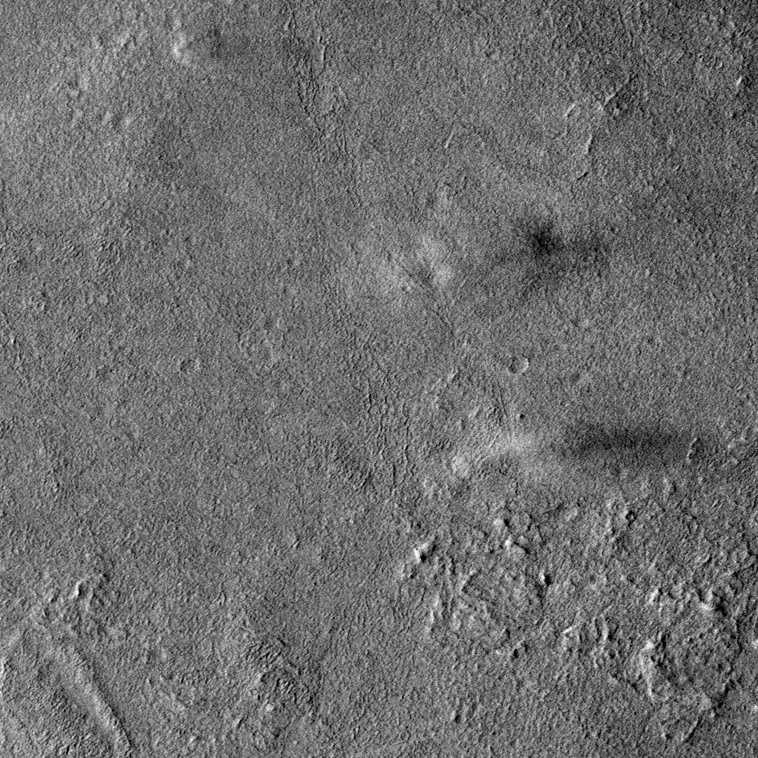dust_devil: (338, 211, 616, 322), (444, 420, 691, 485)
